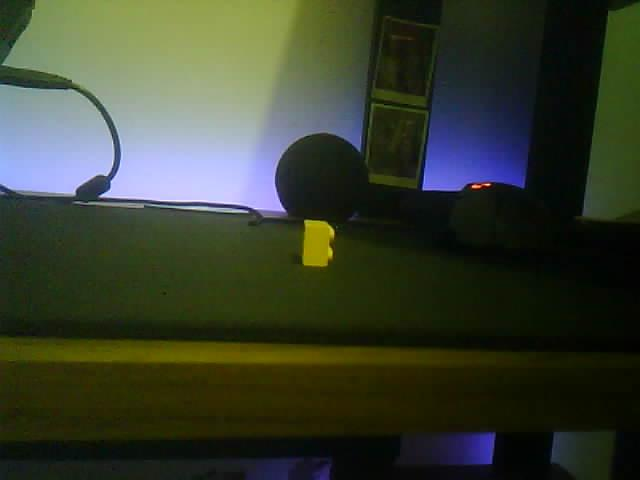lego: (301, 218, 335, 267)
